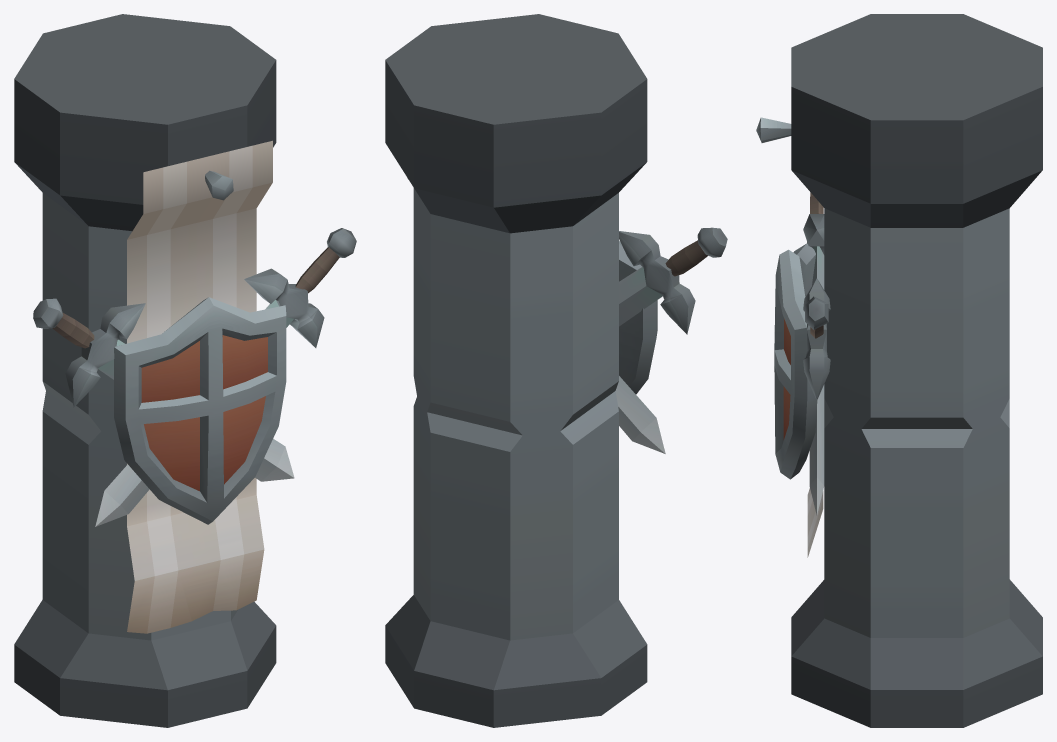
File: pillar_decorated.cf8d6ccc.glb
3 renders of one model, left to right at view 1: azimuth 30°, elevation 25°; view 2: azimuth 150°, elevation 25°; view 3: azimuth 270°, elevation 25°, orthographic.
Parts seen in each view (by area): view 1: pillar_decorated; view 2: pillar_decorated; view 3: pillar_decorated.
Part boxes in pixels (left/top/right/bottom): pillar_decorated: left=14, top=14, right=356, bottom=727; pillar_decorated: left=385, top=14, right=727, bottom=727; pillar_decorated: left=756, top=14, right=1042, bottom=727.
Bounding box in the file's own units: 2.23 × 4 × 1.71.
Materials: 1 (1 with a texture image).
